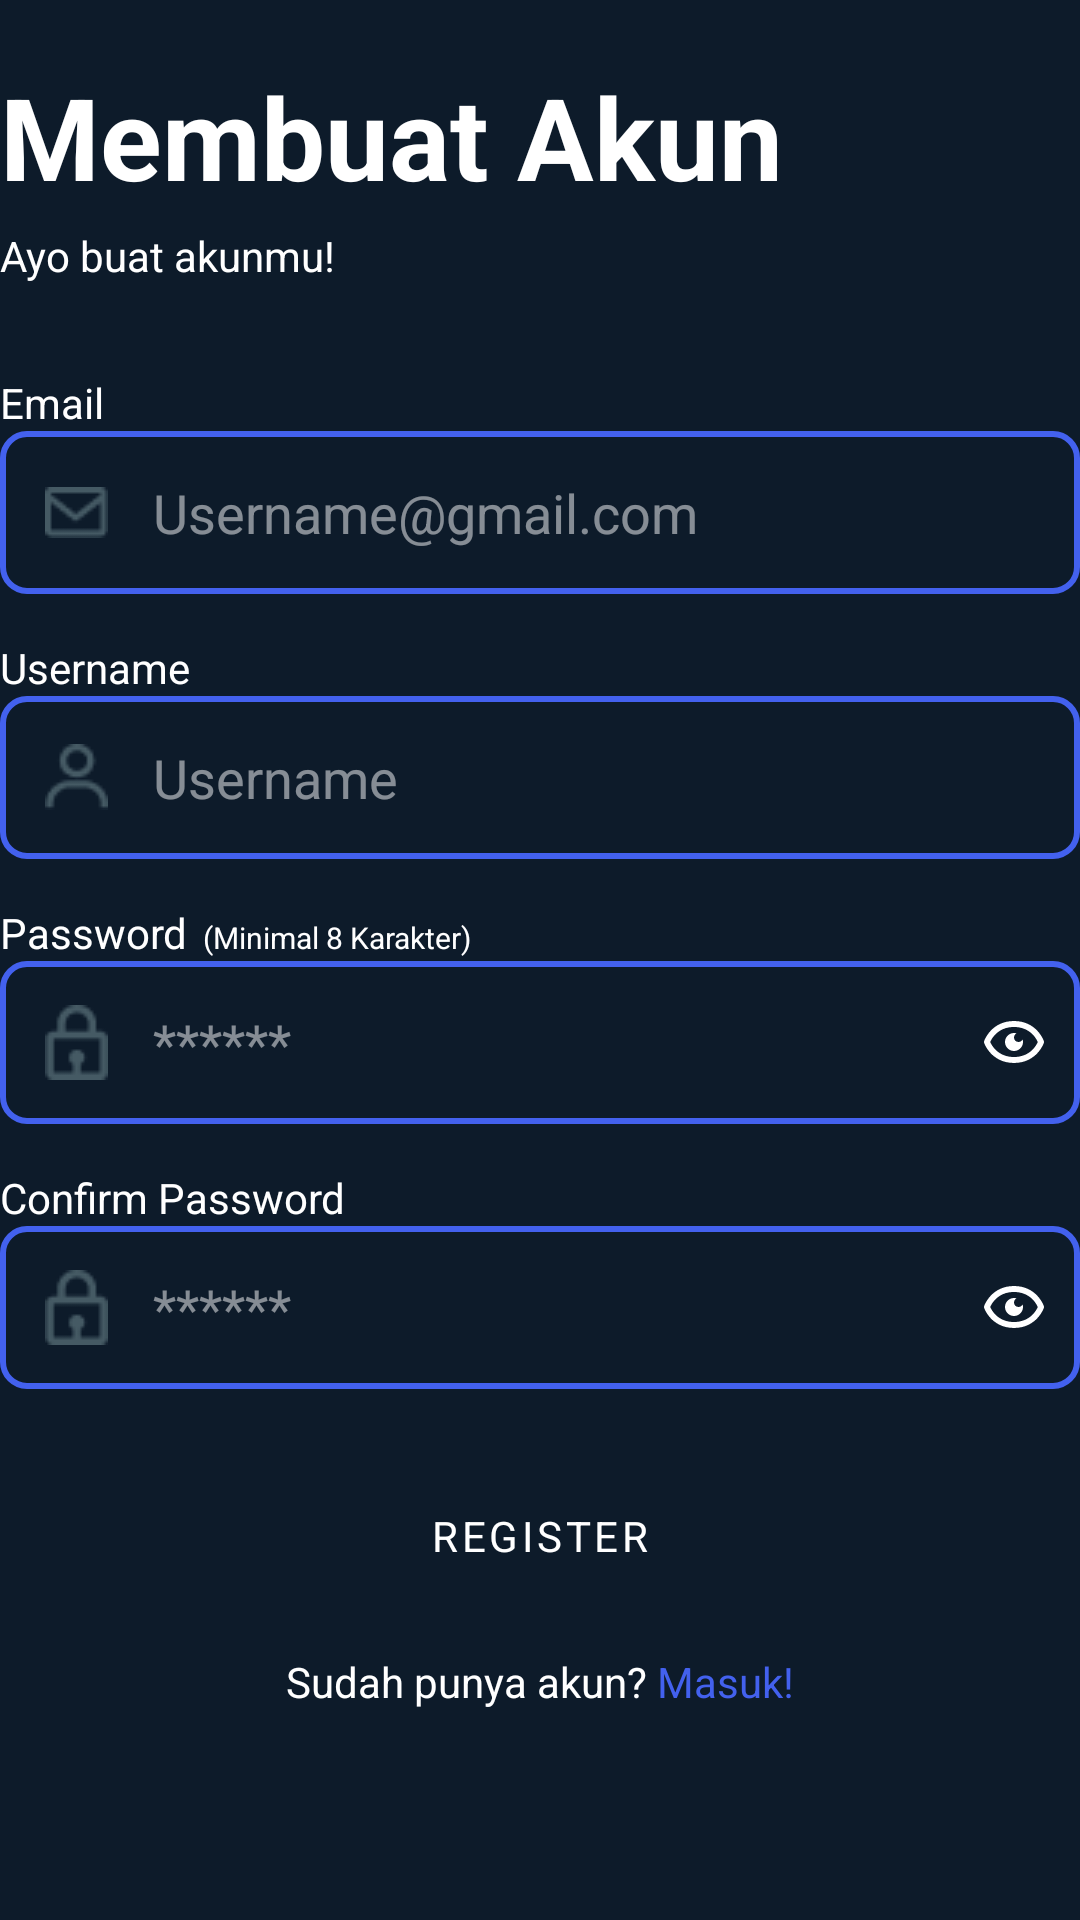

Where icons sit on this 1080px x 1920px app screen, as (x1, y1, x2, y2):
eye: (984, 1021, 1044, 1063), (984, 1286, 1044, 1328)
